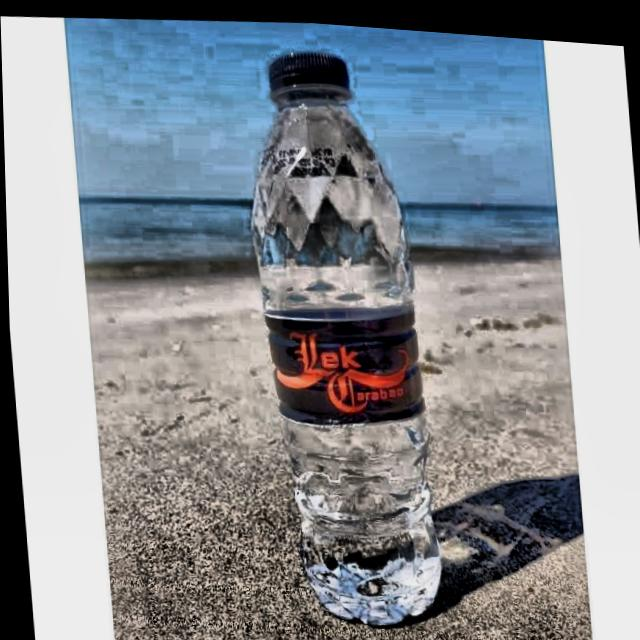Bottles: (214, 30, 482, 640)
